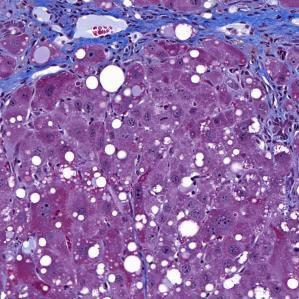fibrosis: (0, 0, 152, 73), (157, 0, 299, 54)
